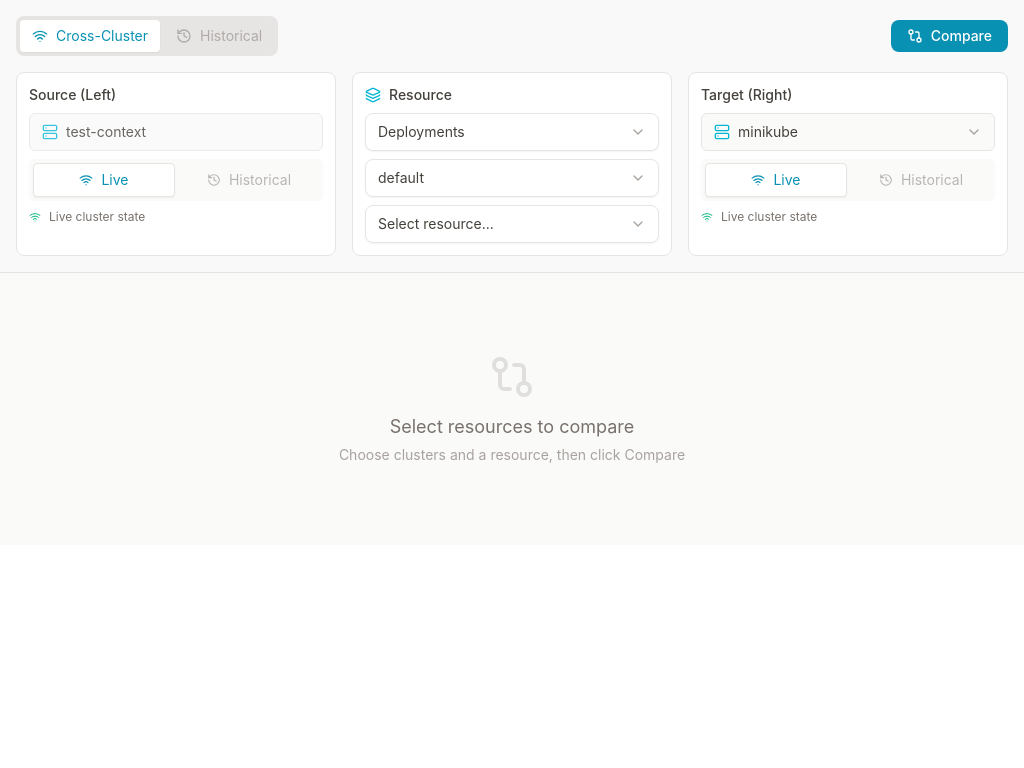
Test: ClusterDiff › compare functionality › should show error message on diff failure
The width and height of the screenshot is (1024, 768).
Click the button "Select resource..." at [436, 224], box [365,205,659,243]
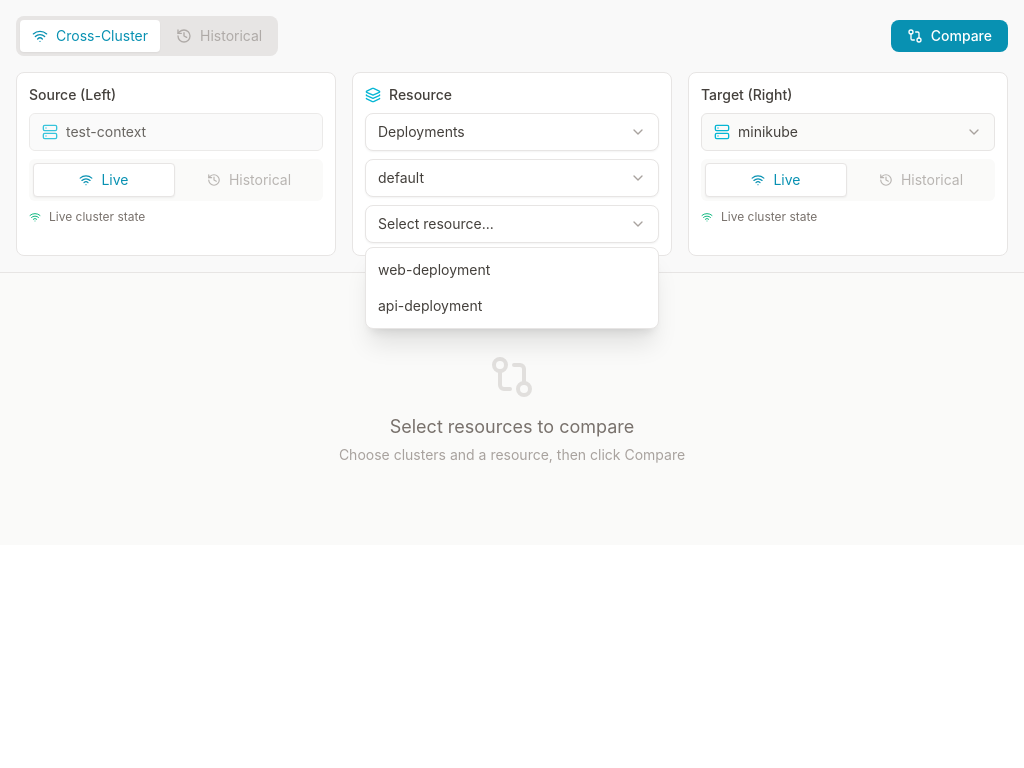
Click the button "web-deployment" at [434, 270], box [366,252,658,288]
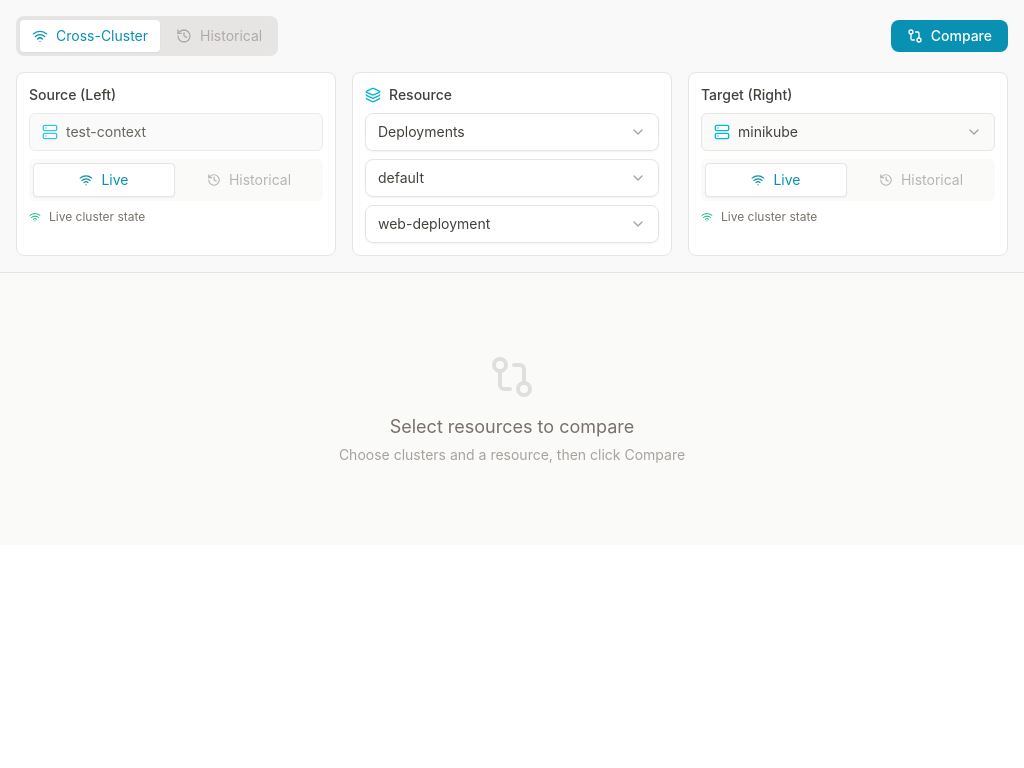
Click compare
Click the button "Compare" at [949, 36], box [891,20,1008,52]
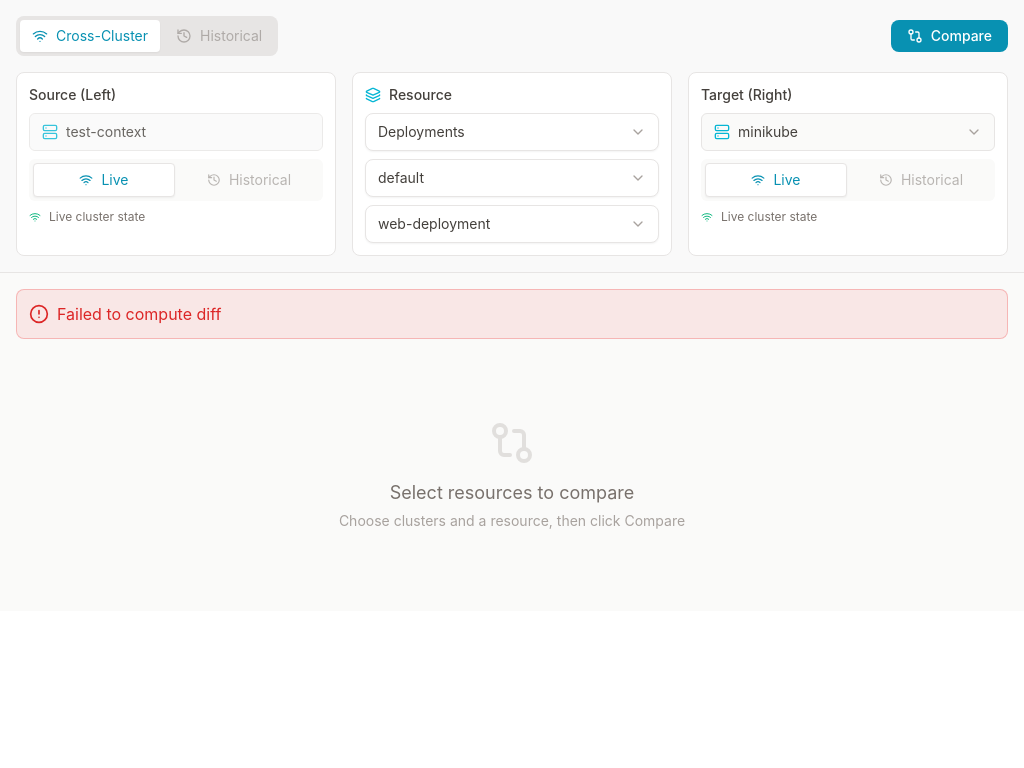
Expected: the text "Failed to compute diff" is shown, [57,302,221,326]
